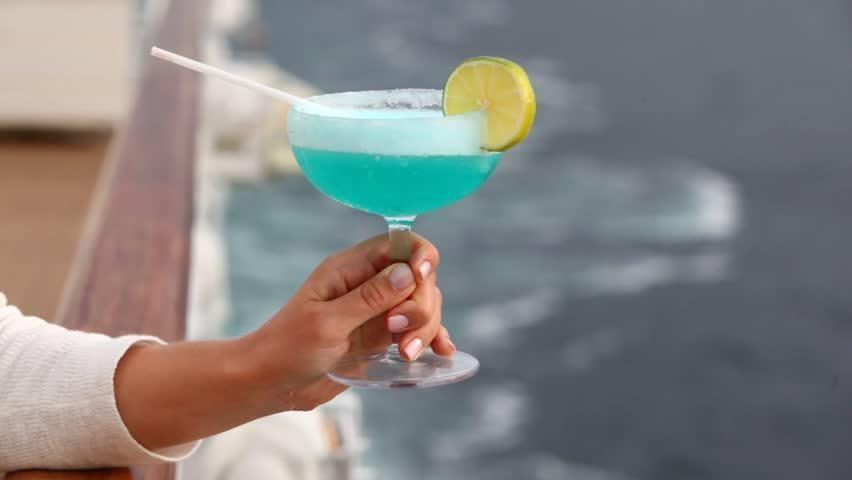glass-wine: (283, 80, 510, 392)
